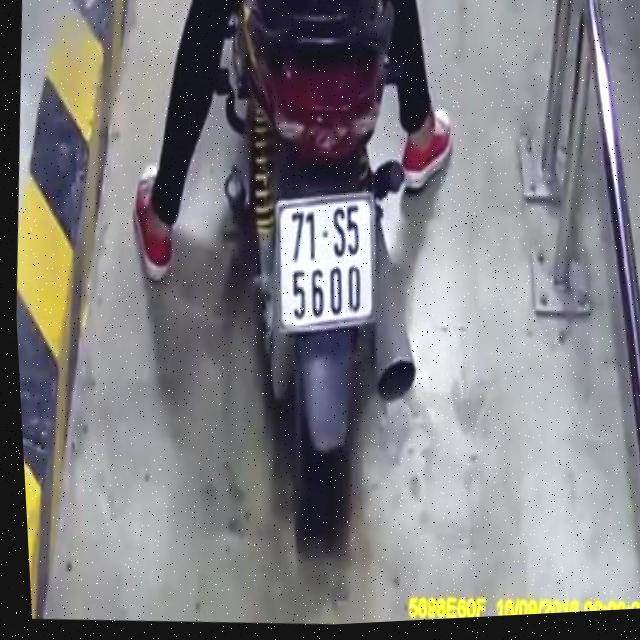motorcycle: (183, 0, 458, 564)
plate: (259, 181, 389, 339)
